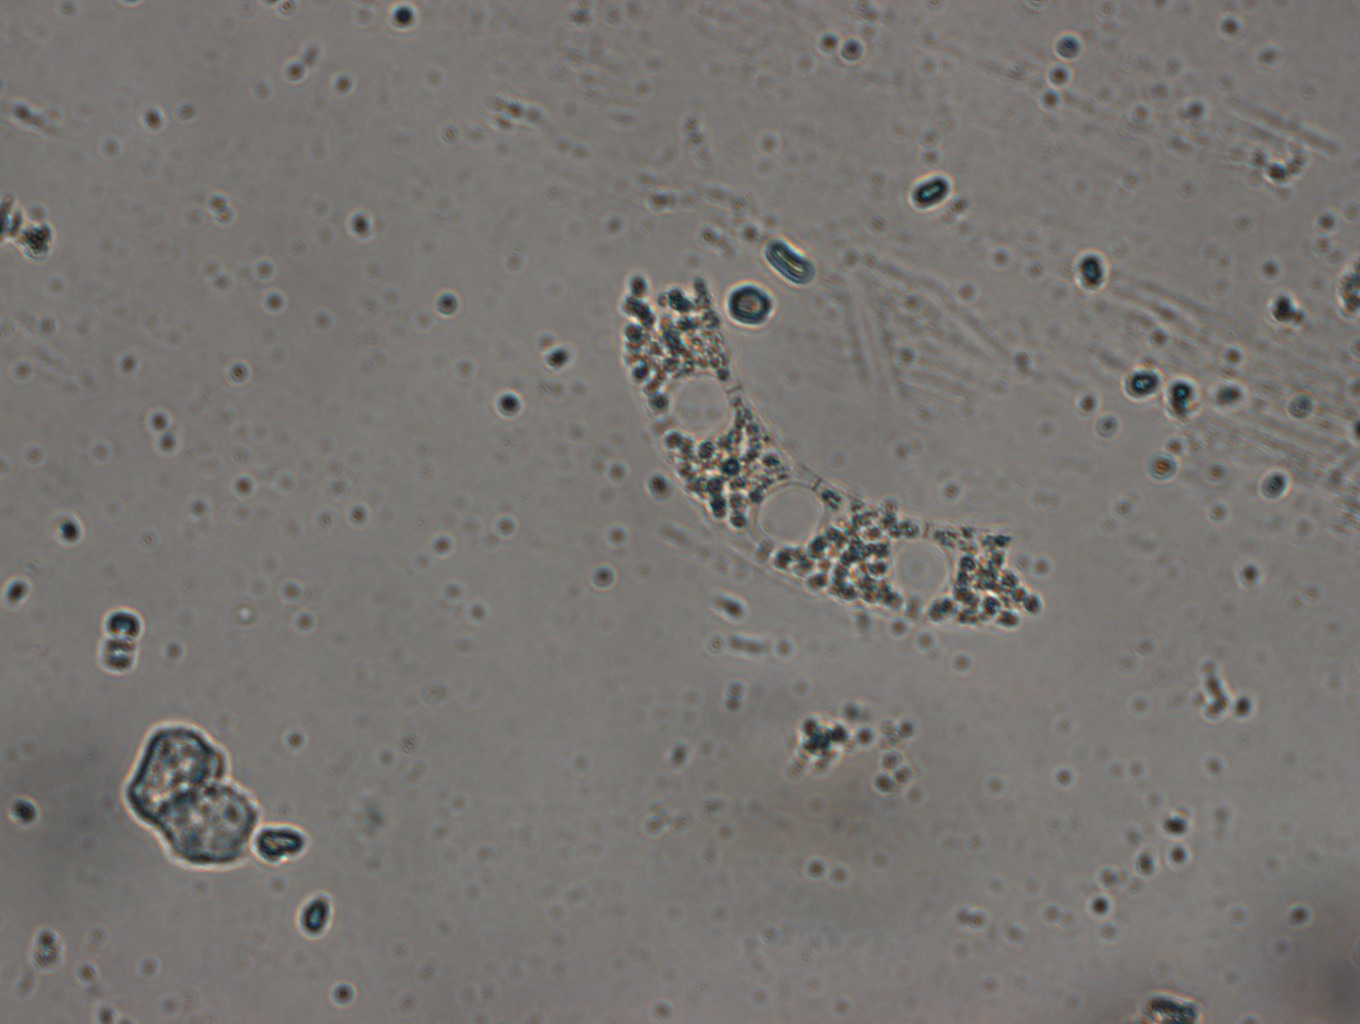eucampia: (612, 253, 1054, 626)
